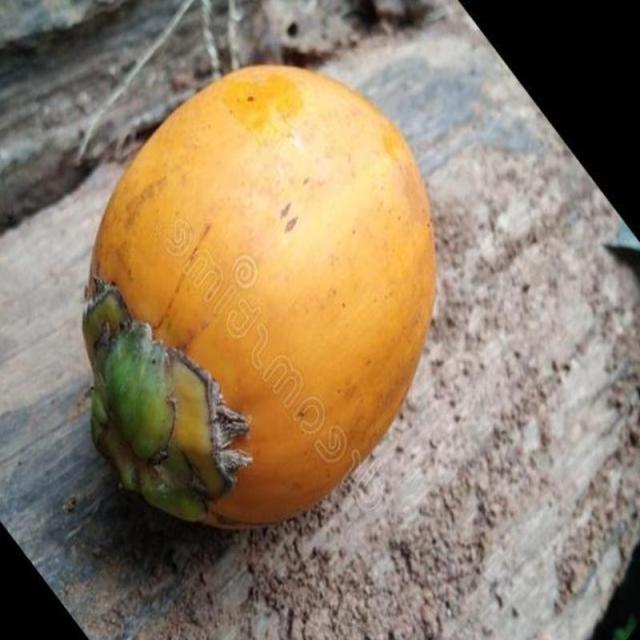good: (81, 65, 438, 532)
